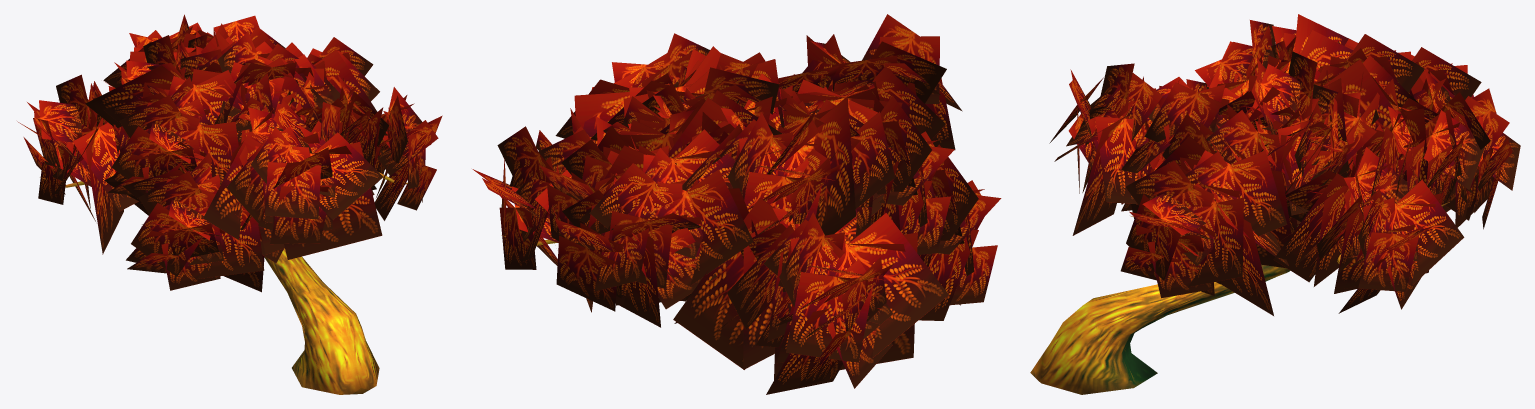
The model's file is tree0.FBX.
3 renders of one model, left to right at view 1: azimuth 30°, elevation 25°; view 2: azimuth 150°, elevation 25°; view 3: azimuth 270°, elevation 25°, orthographic. The views are drawn at different scales.
Visible parts, largest first — view 1: leaves, default; view 2: leaves; view 3: leaves, default.
Part boxes in pixels (x1=…): leaves: x1=17, y1=14, x2=442, y2=292; default: x1=41, y1=172, x2=407, y2=394; leaves: x1=472, y1=14, x2=1001, y2=394; leaves: x1=1049, y1=14, x2=1520, y2=315; default: x1=1030, y1=202, x2=1449, y2=394.
Size of the model in its own units: 6.76 by 5.24 by 7.39.
